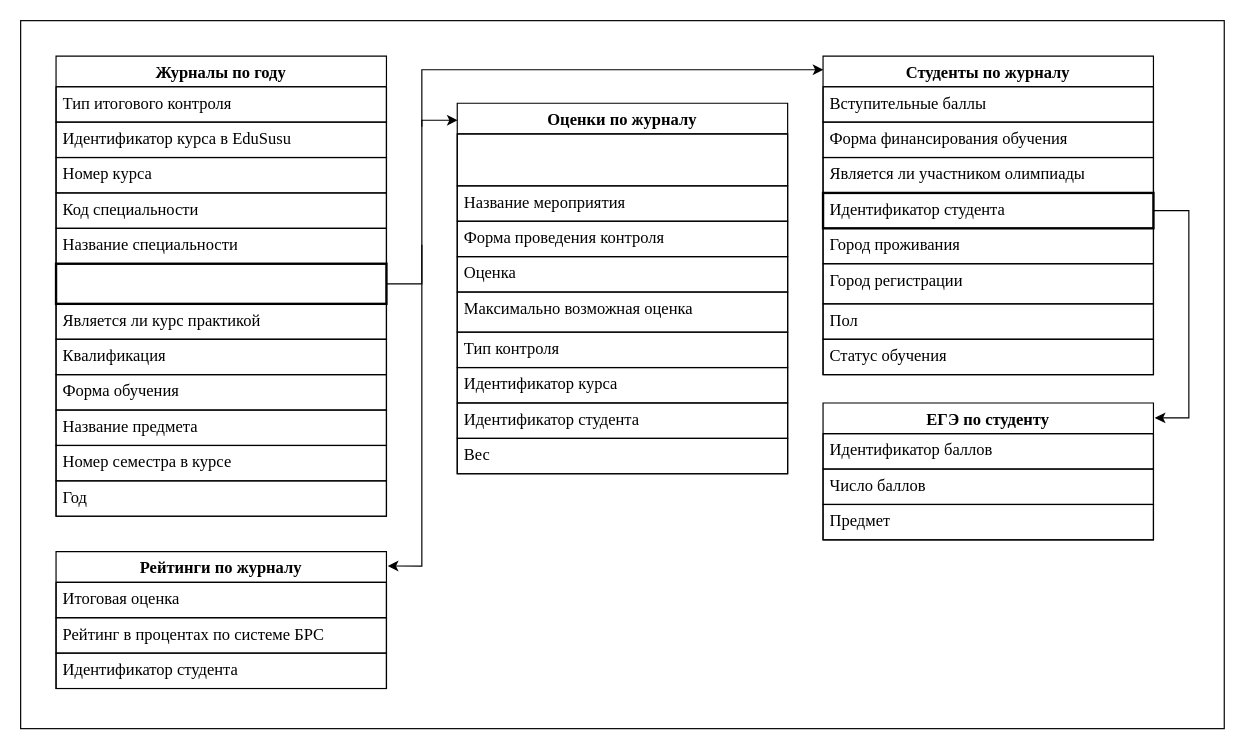
The diagram is 1245 pixels wide and 749 high, and some of its shapes have lost their labels. The centre of each missing label's shape, as x and y in pixels:
"Идентификатор журнала" belongs at point 220,283.
"Электронный номер контрольного мероприятия" belongs at point 622,159.
